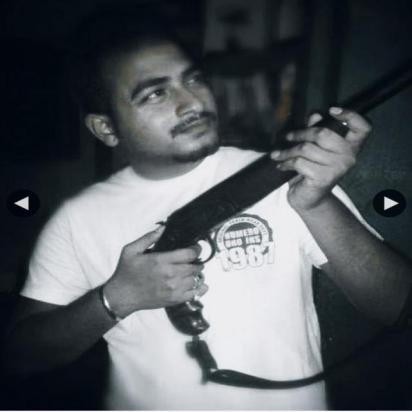Gun: (142, 66, 412, 340)
